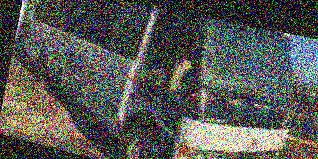bus: (0, 0, 315, 159)
